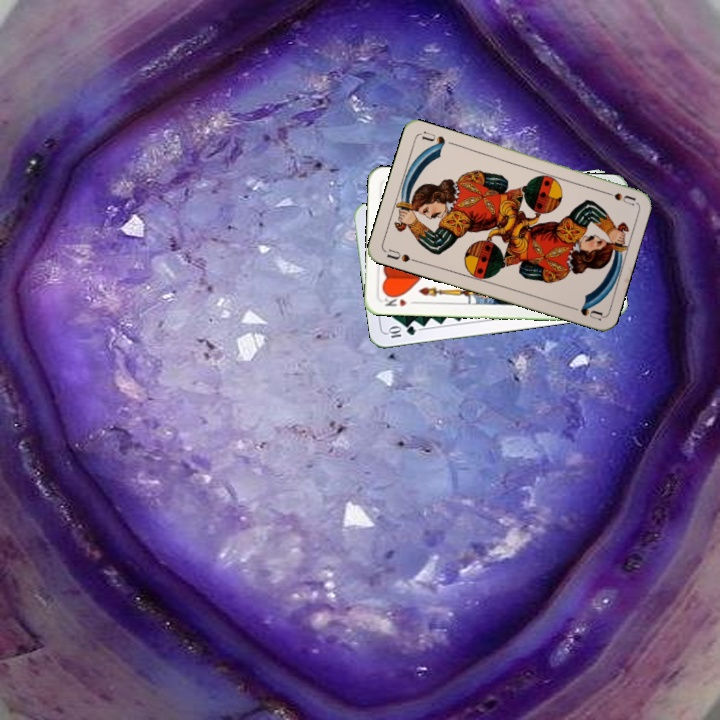G10: (383, 322, 419, 340)
HK: (381, 291, 419, 309)
SU: (597, 186, 638, 208), (382, 245, 421, 265)
